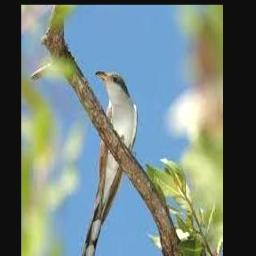Cuckoo: (79, 69, 138, 256)
